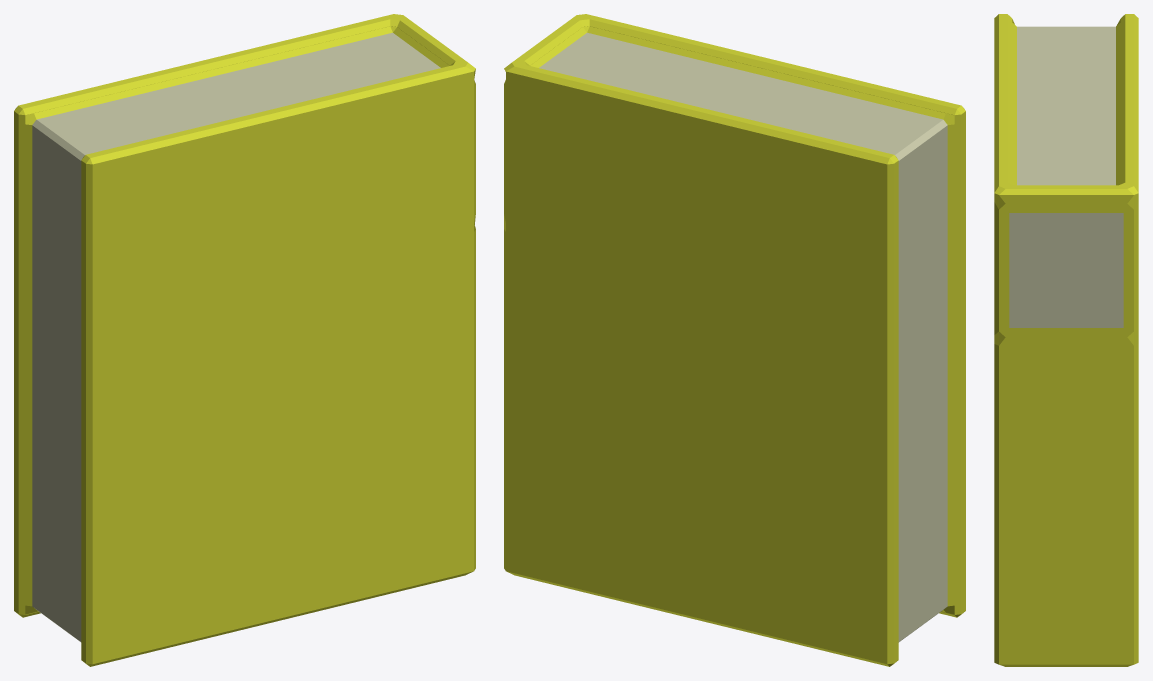
The model's file is Book2V1.fbx.
The picture shows the model from 3 angles, left to right: view 1: azimuth 30°, elevation 25°; view 2: azimuth 150°, elevation 25°; view 3: azimuth 270°, elevation 25°; orthographic projection. The views are drawn at different scales.
Visible parts, largest first — view 1: Cube.001; view 2: Cube.001; view 3: Cube.001.
Part boxes in pixels (x1,y1,x2,y2): Cube.001: [14, 14, 475, 666]; Cube.001: [504, 14, 965, 666]; Cube.001: [994, 14, 1138, 666].
Bounding box in the file's own units: 129 × 378 × 472.
